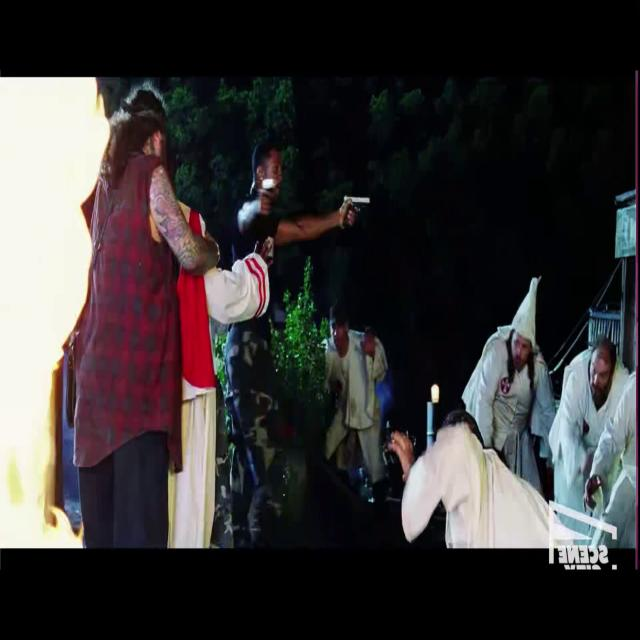weapons: (337, 175, 379, 240)
